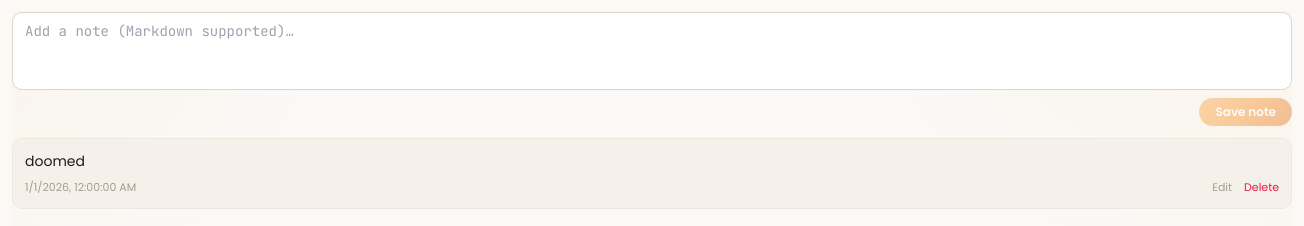
Test: NotesThread — deleting › asks for confirmation and removes the note on yes
Expected: the text "doomed" is shown, x1=25 y1=151 x2=85 y2=171
Click the button "Delete" at [1262, 187], box x1=1244 y1=179 x2=1279 y2=196
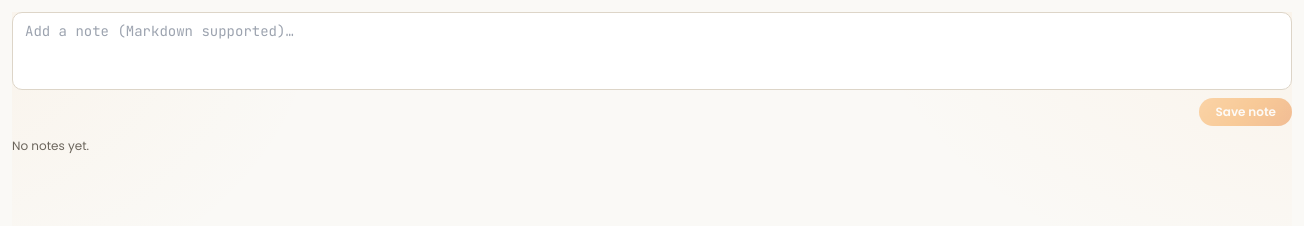
Expected: the text "doomed" is gone
